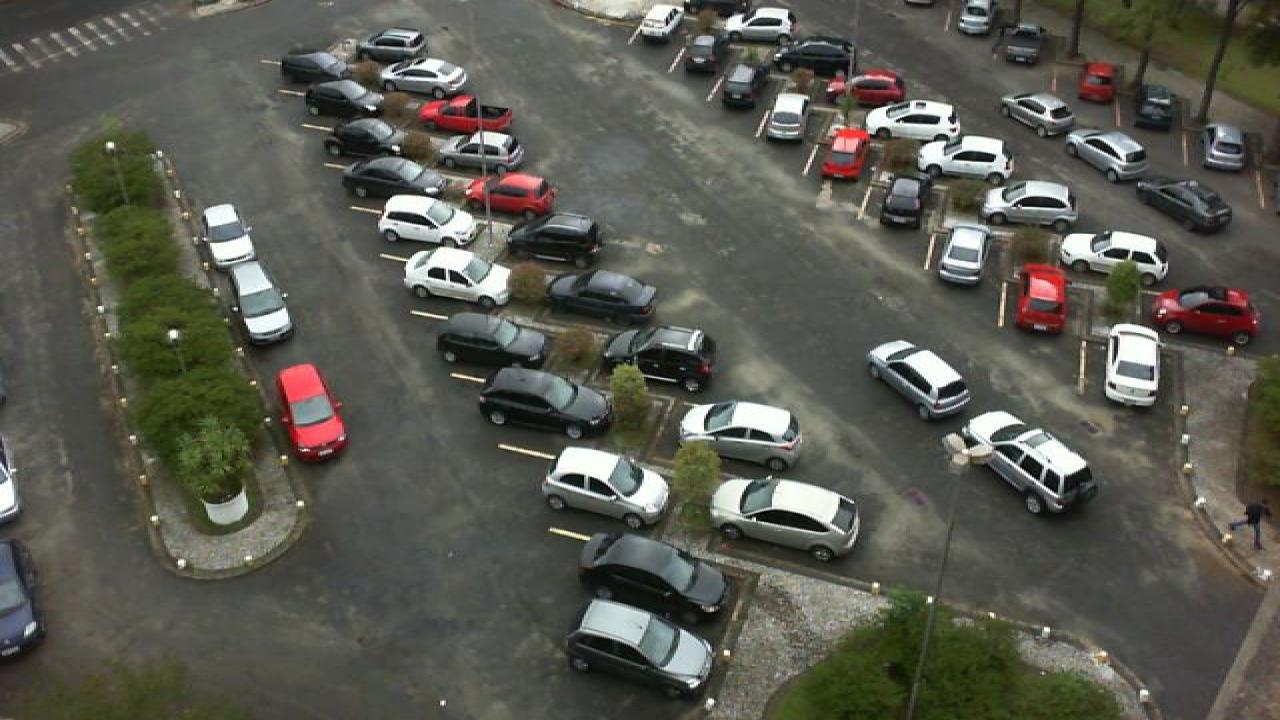Car: (562, 596, 716, 694), (956, 410, 1098, 514), (572, 530, 732, 613), (706, 475, 862, 560), (536, 444, 672, 528), (476, 366, 614, 439), (676, 399, 804, 472), (862, 338, 974, 420), (598, 325, 718, 392), (274, 362, 350, 462), (432, 310, 558, 368), (400, 246, 514, 308), (1150, 284, 1260, 346), (1056, 229, 1172, 286), (544, 269, 660, 325), (224, 260, 296, 344), (374, 193, 480, 248), (338, 154, 454, 204), (502, 212, 604, 266), (1134, 178, 1232, 232), (1102, 324, 1166, 406), (982, 180, 1080, 233), (1062, 128, 1152, 179), (464, 171, 558, 219), (920, 134, 1014, 182), (862, 98, 964, 142), (1012, 262, 1072, 333), (322, 117, 416, 162), (418, 93, 516, 135), (200, 202, 258, 270), (436, 130, 528, 172), (380, 56, 470, 98), (934, 223, 992, 287), (1000, 92, 1078, 138), (772, 38, 856, 79), (302, 79, 388, 118), (278, 49, 358, 86), (878, 174, 928, 229), (1198, 123, 1252, 173), (354, 26, 428, 62), (820, 126, 868, 181), (840, 68, 904, 106), (730, 5, 796, 40), (764, 92, 808, 143), (716, 63, 764, 109), (998, 22, 1048, 66), (1076, 60, 1120, 103), (1134, 84, 1176, 128), (638, 2, 682, 44), (680, 33, 724, 74), (952, 0, 994, 34)
